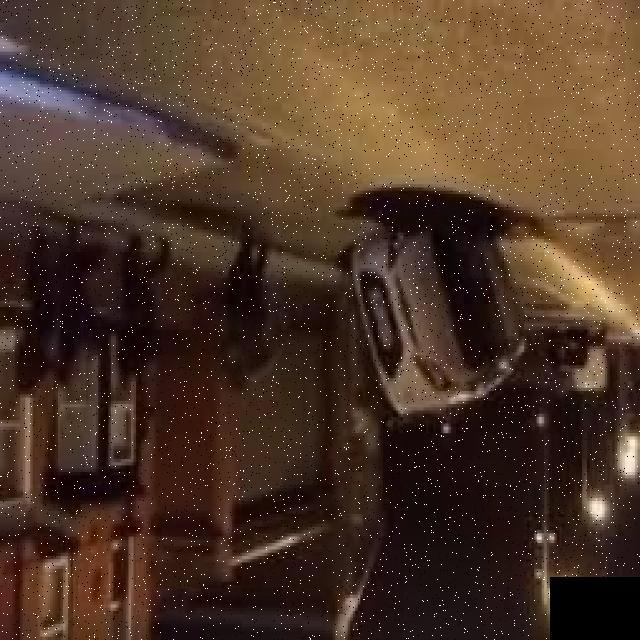severe: (329, 198, 528, 432)
